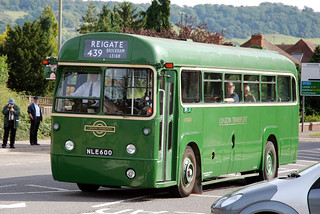bus: (43, 31, 299, 198)
